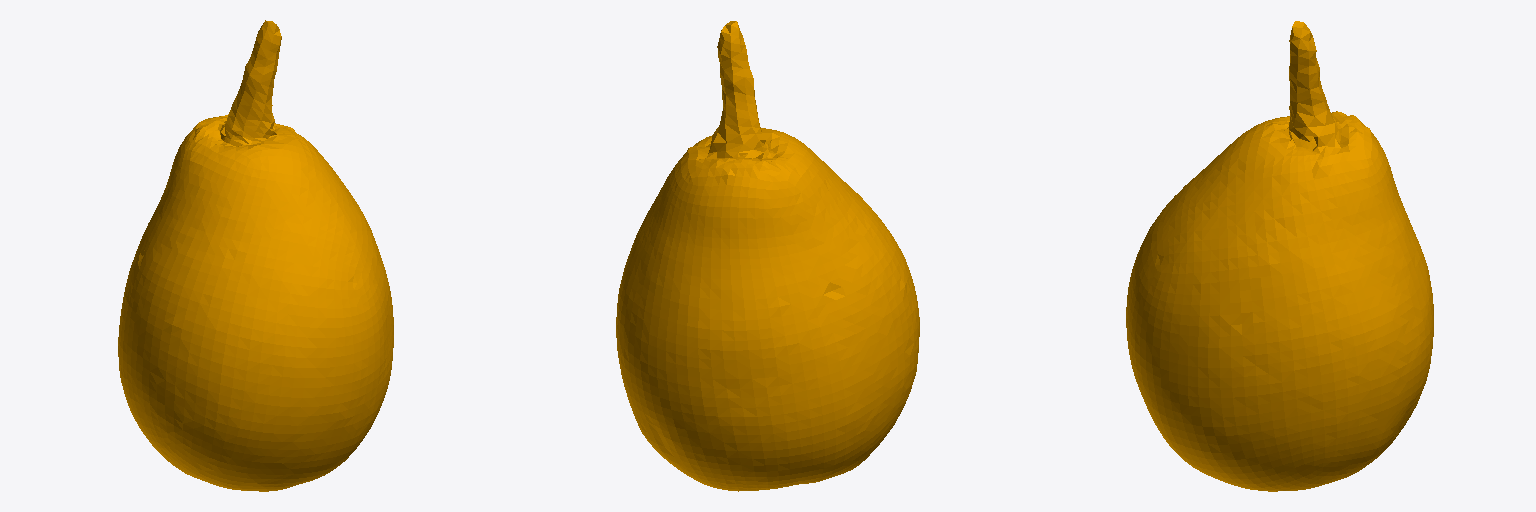
The robot description file, URDF, robot "mesh_object":
<robot name="mesh_object">
            <link name="base">
                <visual>
                    <geometry>
                        <mesh filename="papaya_2_v000.obj" scale="1 1 1" />
                    </geometry>
                </visual>
                <collision>
                    <geometry>
                        <mesh filename="papaya_2_v000.obj" scale="1 1 1" />
                    </geometry>
                </collision>
                <inertial>
                    <origin xyz="0.000000 0.000000 0.049647" rpy="0 0 0" />
                    <mass value="0.500000" />
                    <inertia ixx="0.01" iyy="0.01" izz="0.01" ixy="0" ixz="0" iyz="0" />
                </inertial>
            </link>
            </robot>

--- Facts derived from the render (not from the file) ---
Views: 3 orthographic renders of the robot side by side, from view 1: azimuth 30°, elevation 25°; view 2: azimuth 150°, elevation 25°; view 3: azimuth 270°, elevation 25°.
Robot: mesh_object — 1 links, 0 joints (none); root link base; default pose: all joints at 0.
Links seen in each view (by area): view 1: base; view 2: base; view 3: base.
Boxes of the visible links, x1=… form: base: x1=118, y1=20, x2=393, y2=491; base: x1=616, y1=21, x2=919, y2=491; base: x1=1126, y1=21, x2=1433, y2=491.
Size in the robot's own frame: 0.0573 by 0.0603 by 0.0993 metres.
Meshes: 1 distinct files referenced, 1 mesh visuals loaded (1 OBJ).
